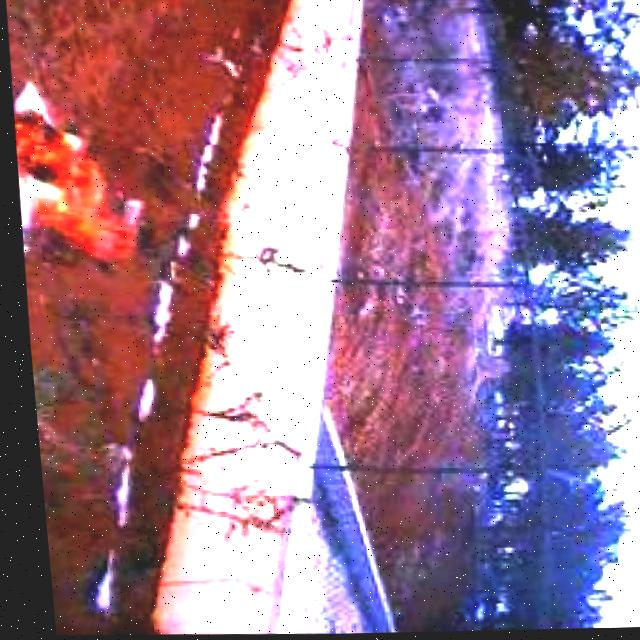Fire: (8, 103, 132, 262)
